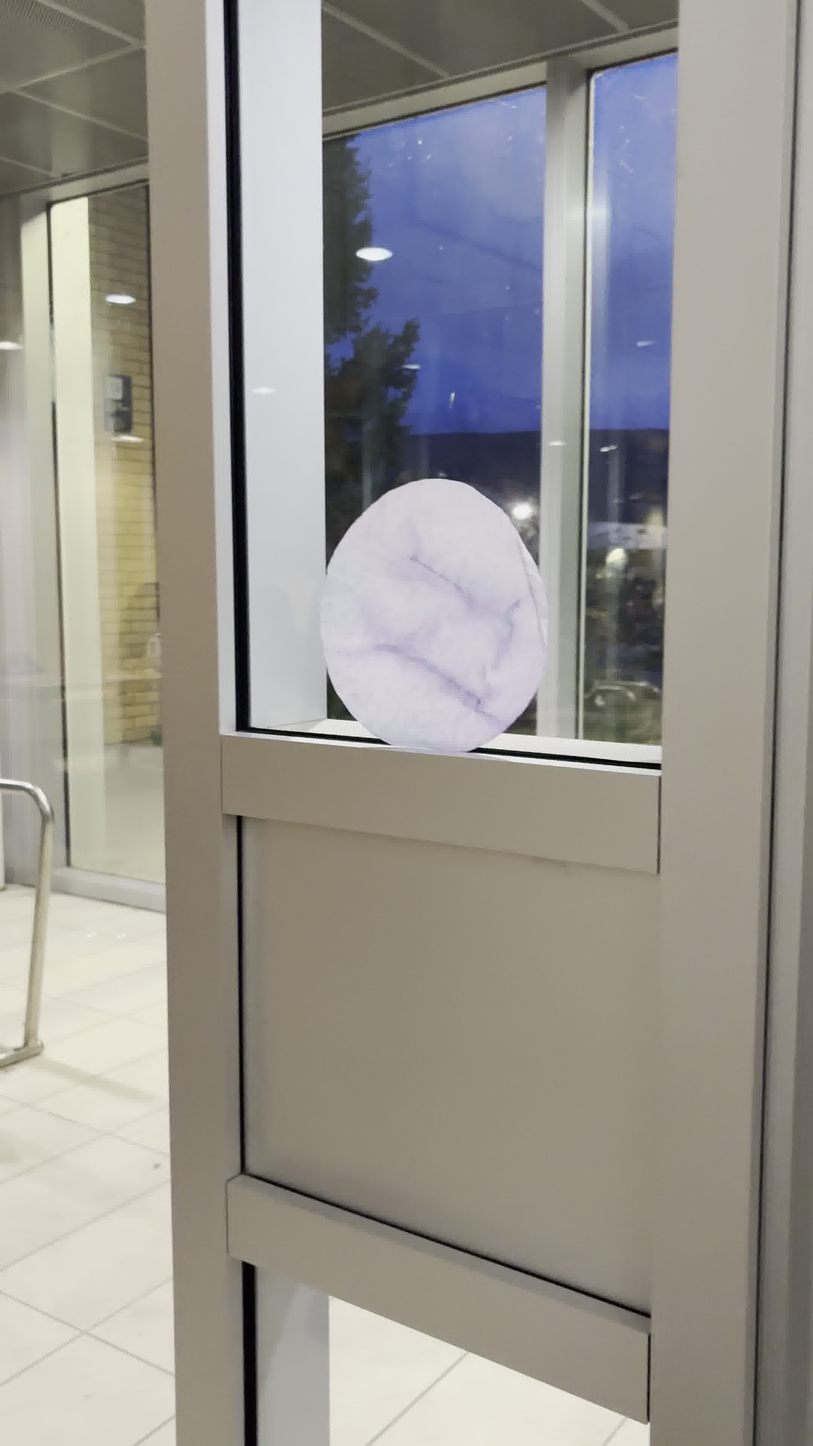Target: (315, 478, 555, 759)
